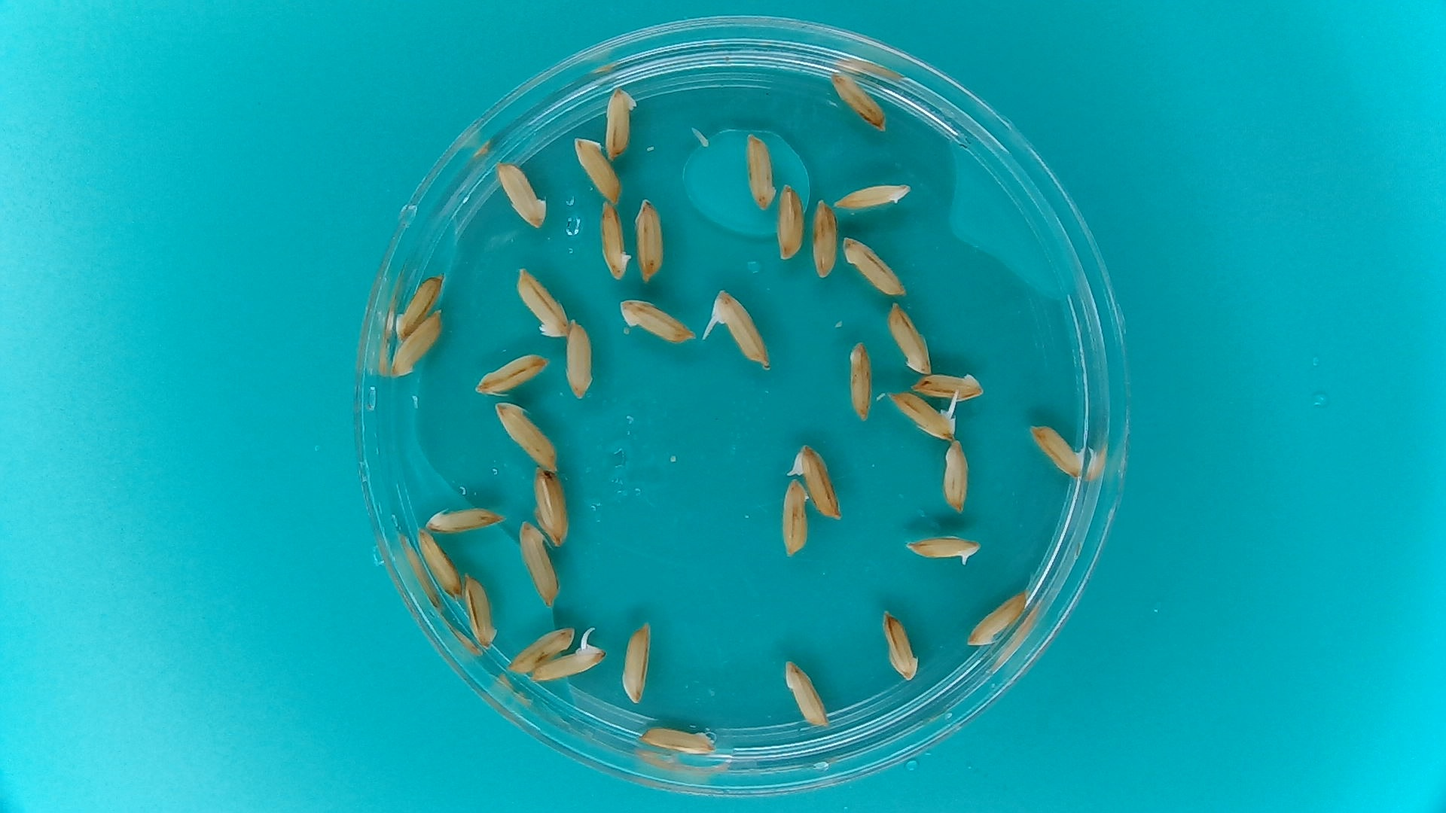no: (838, 230, 911, 302), (489, 398, 559, 473), (507, 263, 571, 343), (825, 63, 891, 137), (614, 292, 698, 350), (615, 614, 663, 714), (962, 583, 1031, 650), (514, 517, 560, 613), (491, 157, 550, 230), (779, 655, 834, 732), (1025, 418, 1091, 480), (572, 129, 627, 202), (827, 173, 917, 215), (389, 311, 446, 377), (878, 607, 925, 685), (886, 299, 933, 377), (593, 194, 633, 284), (506, 623, 575, 675), (740, 129, 781, 214), (600, 79, 639, 166), (474, 350, 550, 394), (807, 193, 843, 284), (415, 528, 461, 598), (396, 271, 444, 338), (633, 194, 669, 283), (773, 178, 809, 265), (534, 467, 572, 549), (461, 574, 500, 653), (633, 722, 720, 757), (422, 502, 503, 538), (563, 316, 594, 401), (779, 475, 811, 557), (905, 369, 987, 401), (938, 440, 972, 515), (846, 336, 874, 424)
yes: (712, 290, 770, 368), (792, 445, 843, 519), (889, 391, 959, 440), (528, 639, 601, 683), (900, 534, 985, 568)
